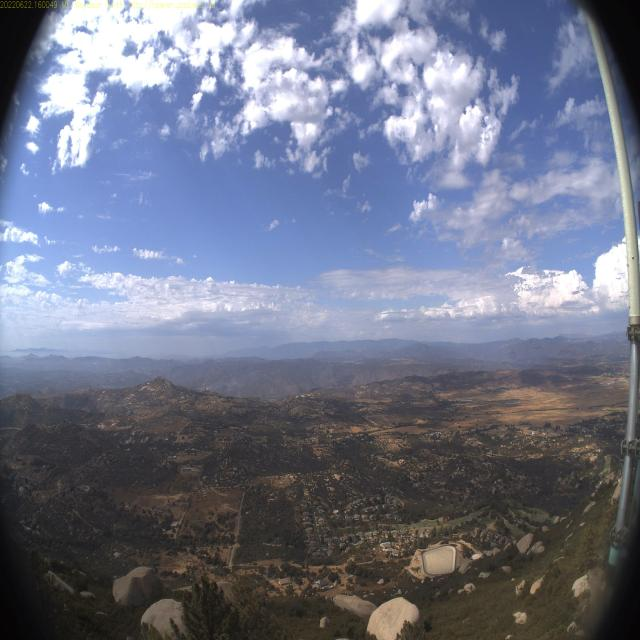smoke: (200, 374, 243, 399)
